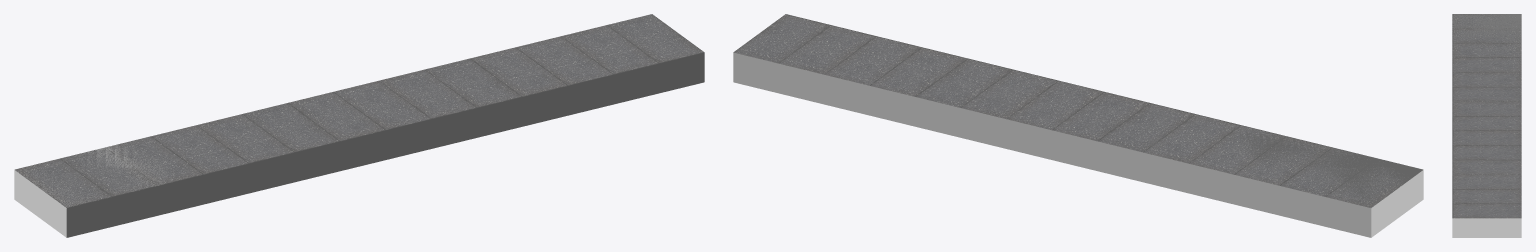
3 views of the same model, side by side, from view 1: azimuth 30°, elevation 25°; view 2: azimuth 150°, elevation 25°; view 3: azimuth 270°, elevation 25° (orthographic). The views are drawn at different scales.
Visible parts, largest first — view 1: SM_Floor_80x560_01a, SM_Floor_80x560_01a_ConvexHulls; view 2: SM_Floor_80x560_01a, SM_Floor_80x560_01a_ConvexHulls; view 3: SM_Floor_80x560_01a, SM_Floor_80x560_01a_ConvexHulls.
Part boxes in pixels (x1,y1,x2,y2): SM_Floor_80x560_01a: (15,14,704,207); SM_Floor_80x560_01a_ConvexHulls: (14,52,704,237); SM_Floor_80x560_01a: (733,14,1409,207); SM_Floor_80x560_01a_ConvexHulls: (733,52,1423,237); SM_Floor_80x560_01a: (1452,14,1521,218); SM_Floor_80x560_01a_ConvexHulls: (1452,14,1521,237).
Bounding box in the file's own units: 560 × 80 × 25.
Materials: 2 (1 with a texture image).
